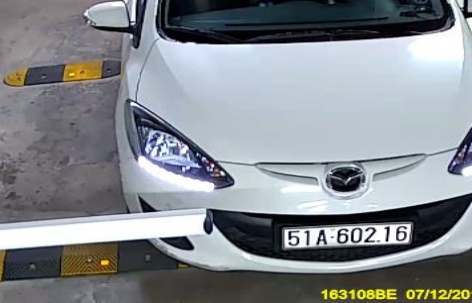plate: (276, 216, 419, 255)
